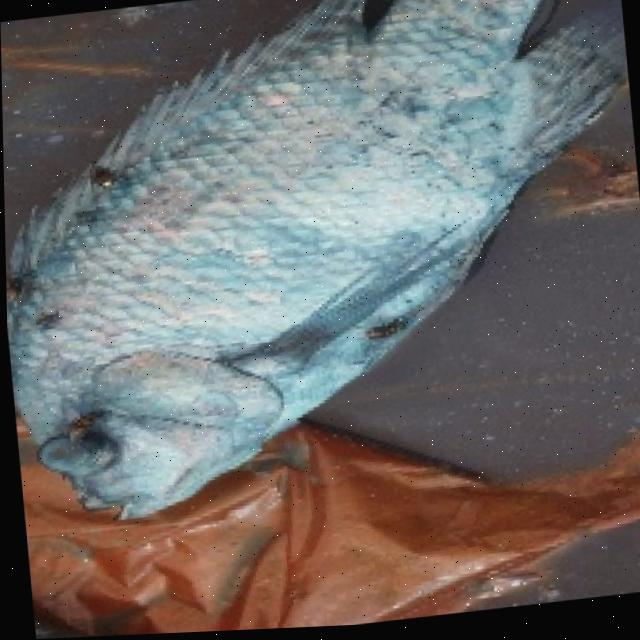Non-Fresh: (0, 0, 543, 558), (25, 395, 154, 505)
